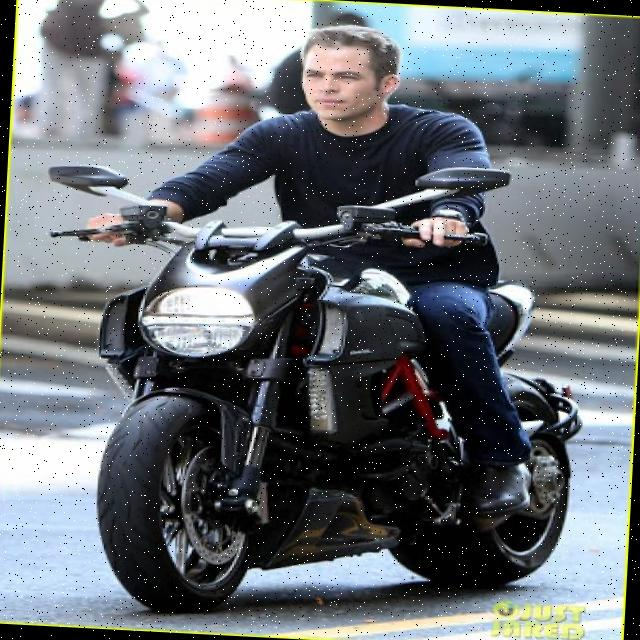No helmet: (290, 20, 404, 132)
